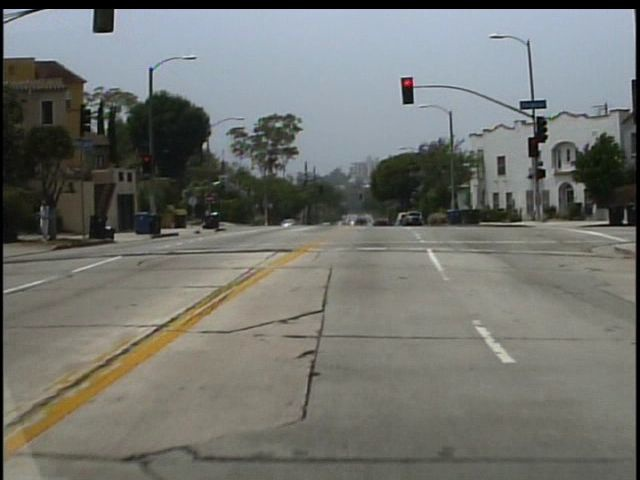person: (42, 199, 56, 242)
